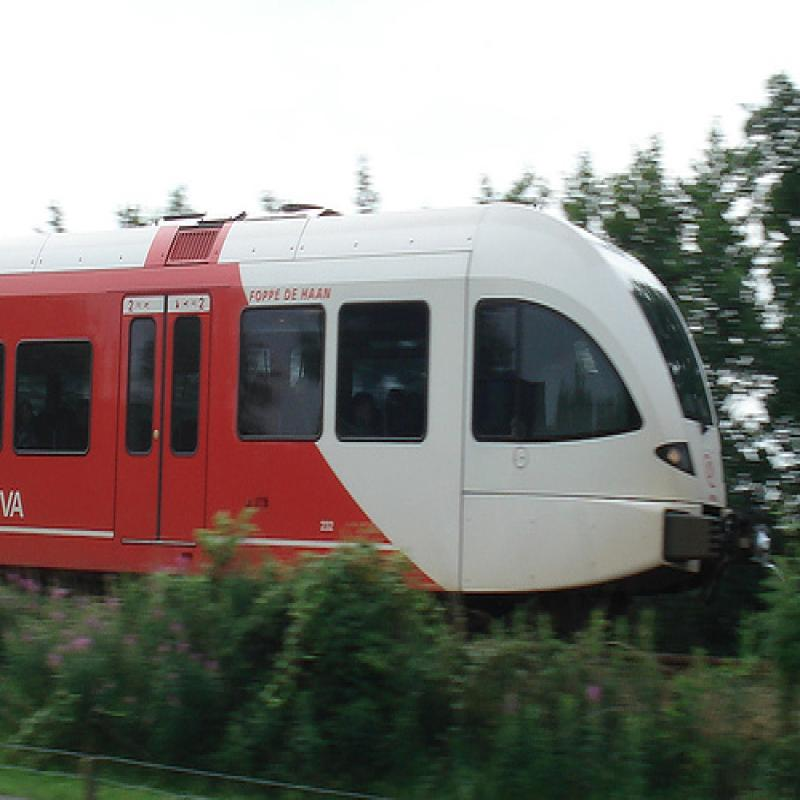train: (1, 203, 758, 602)
